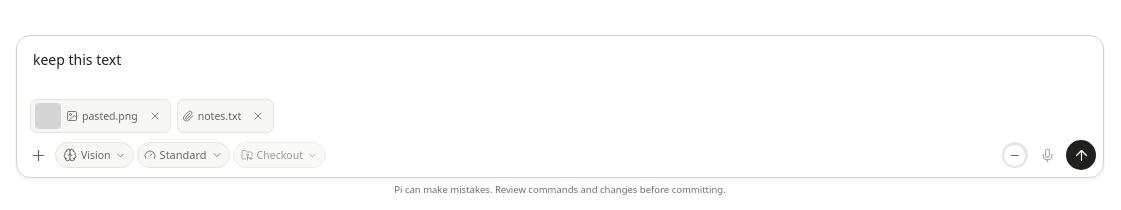
Test case: Composer image ingestion › stages mixed file types and rejects unsupported files when sending
Expected: the number of elements with class "composer-attachment" is 2, [30, 99, 171, 133]; [177, 99, 274, 133]
Click the button named "Send message". click: (1081, 155)
box: [1066, 140, 1096, 170]
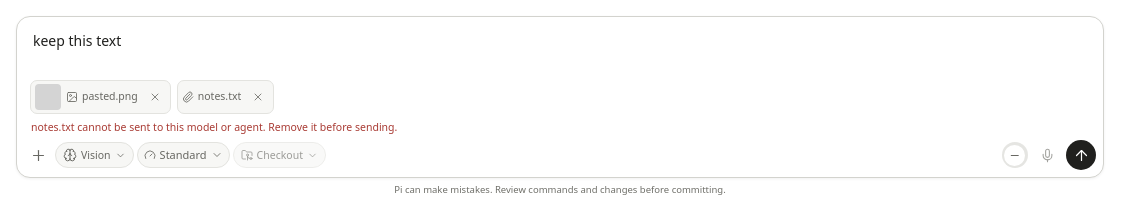
Expected: the dropdown named "Message Pi" holds "keep this text", [24, 24, 1096, 79]
Now the message "notes.txt cannot be sent to this model or agent. Remove it before sending." is shown, box [31, 120, 397, 134]
